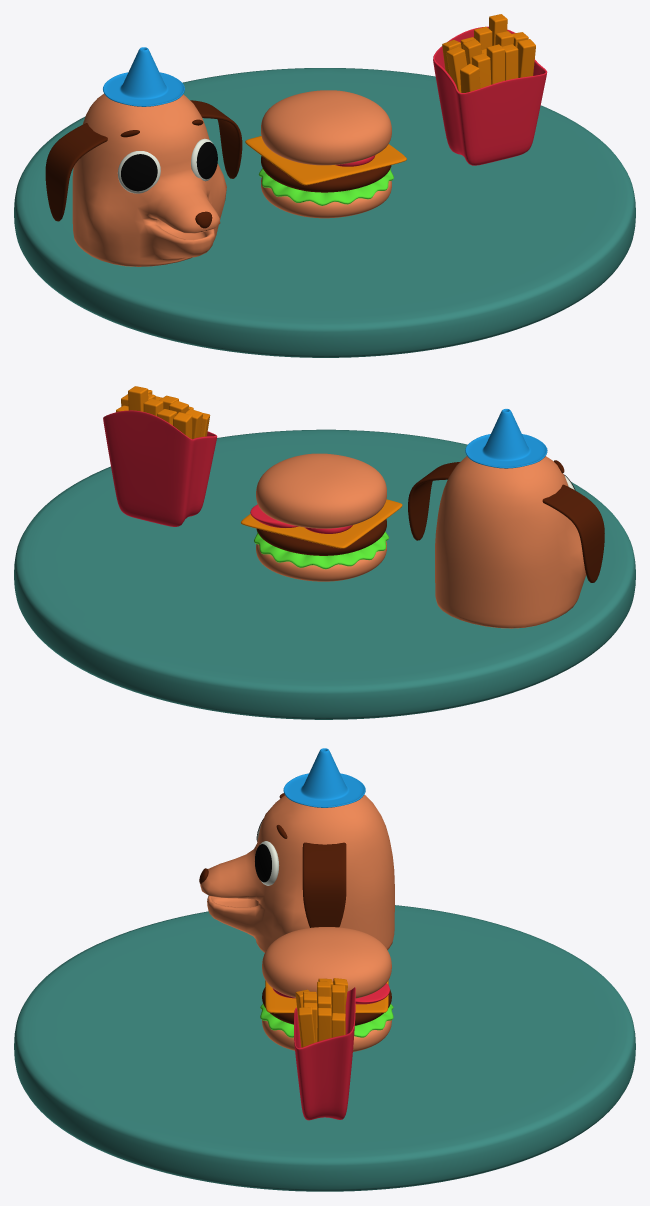
Rendered from first_design3.gltf.
The picture shows the model from 3 angles, top to bottom: view 1: azimuth 30°, elevation 25°; view 2: azimuth 150°, elevation 25°; view 3: azimuth 270°, elevation 25°; orthographic projection.
Parts seen in each view (by area): view 1: Circle.002, Cube.007, Cube.001, Cube.006, Cube.017, Plane.001, Circle.001, Plane, Cube.002, Sphere.001, Circle, Cube (+1 smaller); view 2: Circle.002, Cube.007, Cube.006, Cube.001, Plane.001, Circle.001, Cube.017, Plane, Cube.002, Circle, Cube; view 3: Circle.002, Cube.007, Cube.001, Cube.006, Plane.001, Cube.017, Circle.001, Plane, Cube.002, Circle.
Boxes of the visible parts, x1,y1,x2,y2 form: Circle.002: (14,68,635,357); Cube.007: (72,94,226,266); Cube.001: (261,90,391,165); Cube.006: (433,26,547,165); Cube.017: (442,14,535,92); Plane.001: (45,100,242,221); Circle.001: (103,47,184,106); Plane: (245,136,406,185); Cube.002: (261,177,391,218); Sphere.001: (121,142,217,191); Circle: (258,168,393,205); Cube: (261,156,391,192); Circle.002: (14,429,635,719); Cube.007: (435,456,586,628); Cube.006: (103,410,217,526); Cube.001: (256,453,386,528); Plane.001: (408,462,604,582); Circle.001: (465,409,547,468); Cube.017: (116,386,210,439); Plane: (241,499,402,548); Cube.002: (256,541,386,581); Circle: (254,531,389,569); Cube: (256,519,386,555); Circle.002: (14,905,635,1191); Cube.007: (200,795,394,952); Cube.001: (262,927,391,998); Cube.006: (294,987,355,1120); Plane.001: (302,842,346,927); Cube.017: (295,978,347,1047); Circle.001: (283,748,365,807); Plane: (265,980,388,1013); Cube.002: (262,1020,391,1051); Circle: (260,1003,393,1037).
Bounding box in the file's own units: 20.46 × 8.19 × 20.42.
